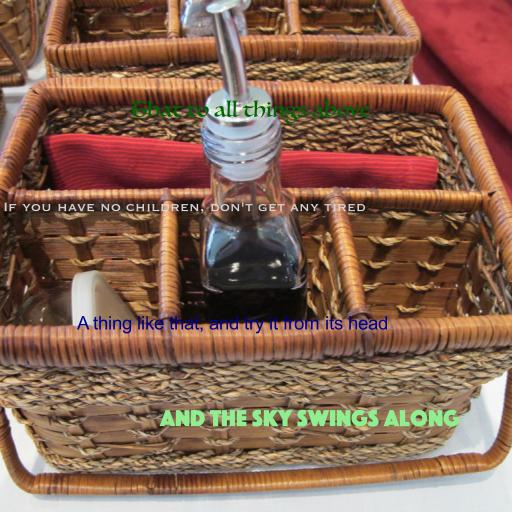Arial: (76, 315, 388, 334)
Copperplate: (2, 202, 366, 214)
Luminari: (130, 100, 370, 124)
Phosphate: (160, 409, 460, 427)
